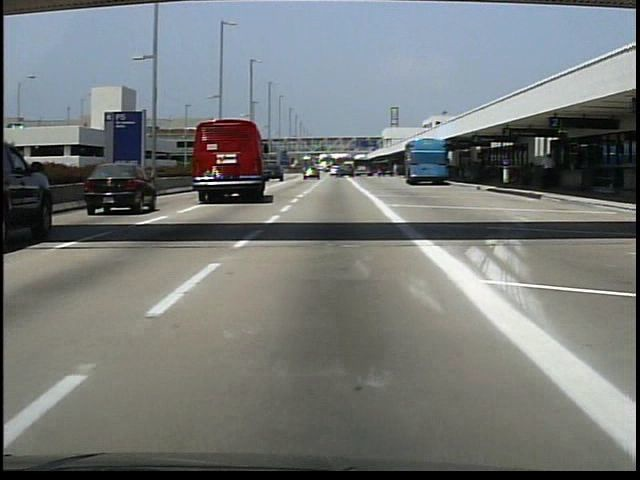person: (542, 154, 556, 191)
